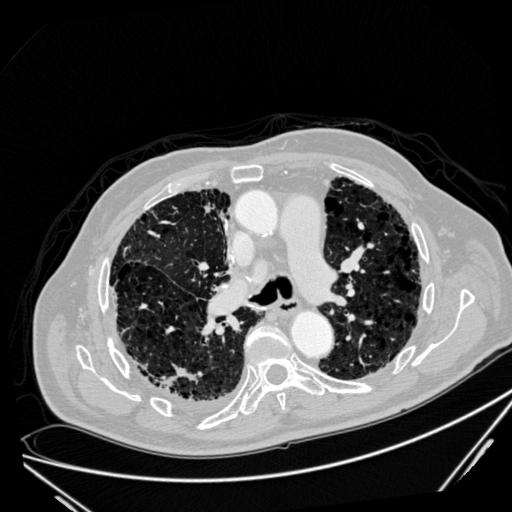nodule: (168, 362, 197, 391)
